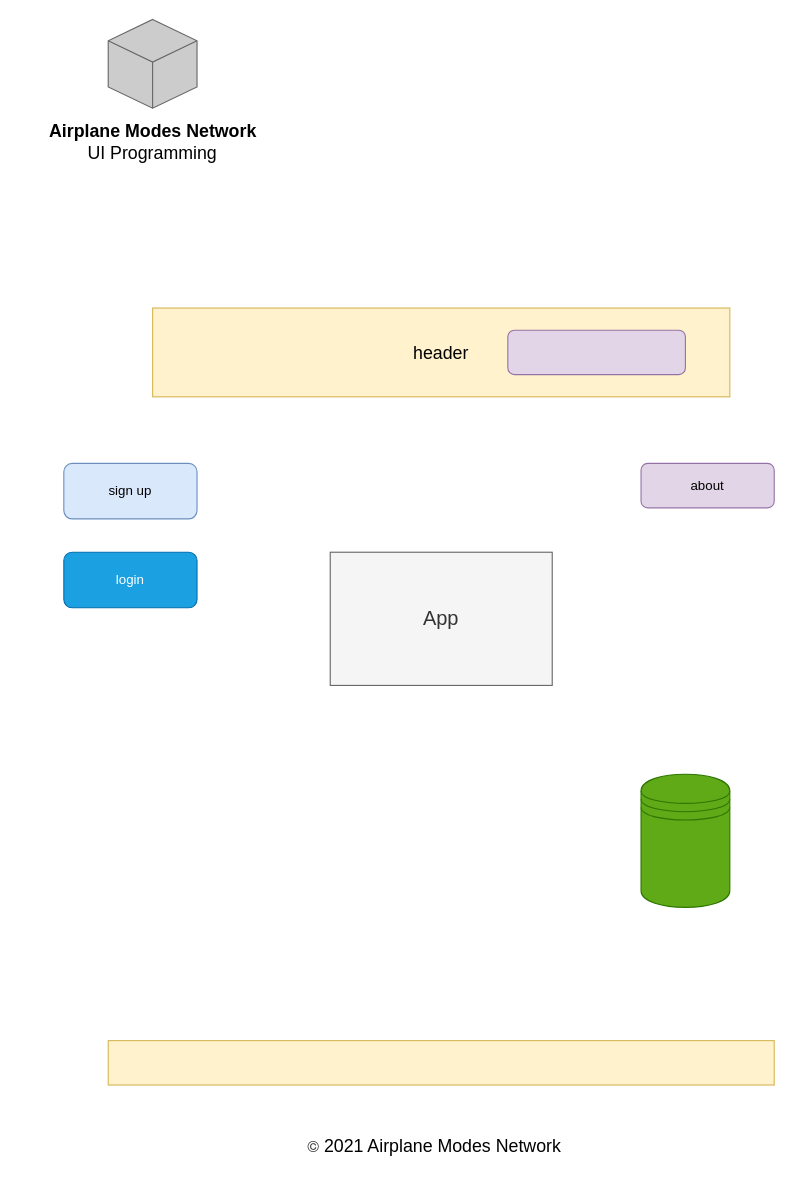
Image size: 794x1182. Some labels were removed from this diagram. The centre of each missing label's shape, as x and y in pixels:
footer: the point at 440,1062
mongoDB: the point at 685,840
navbar: the point at 596,352
